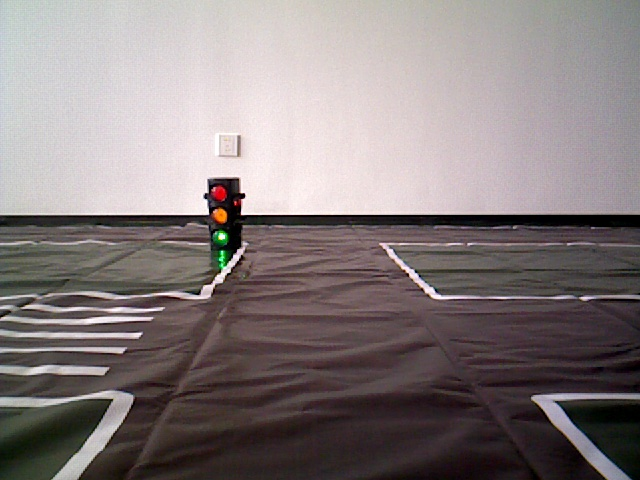green: (208, 180, 238, 243)
